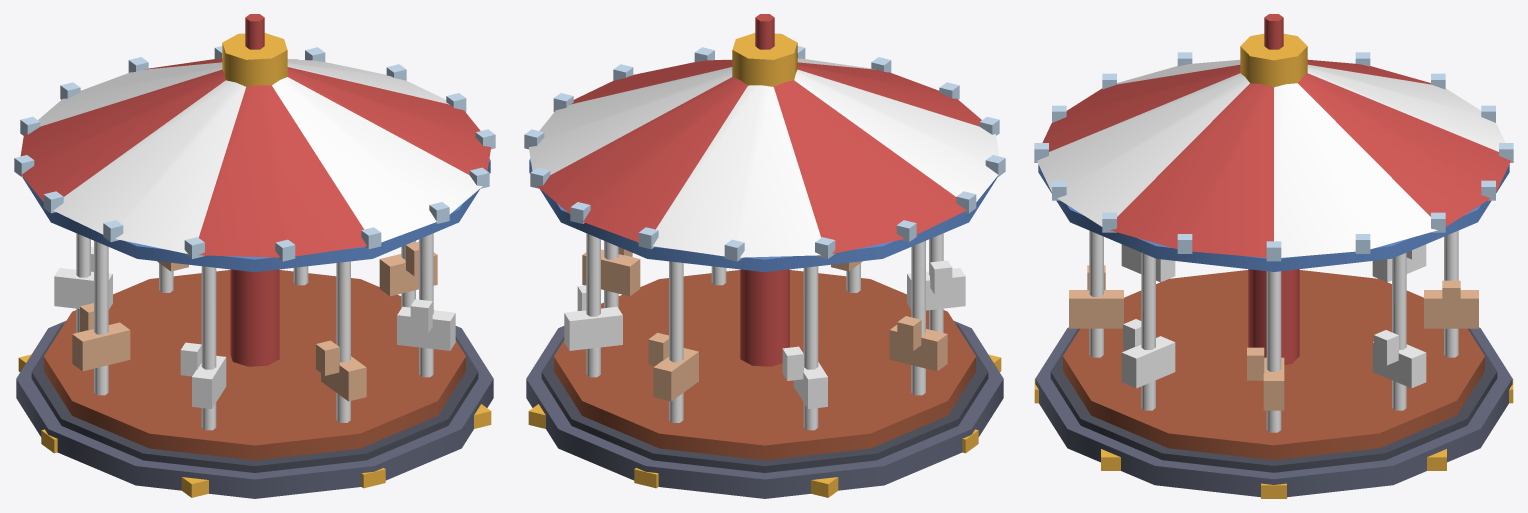
Rendered from manege-carrousel.glb.
3 renders of one model, left to right at view 1: azimuth 30°, elevation 25°; view 2: azimuth 150°, elevation 25°; view 3: azimuth 270°, elevation 25°, orthographic.
Parts seen in each view (by area): view 1: plateforme, toit-secteur-7, toit-secteur-6, socle, toit-secteur-0, toit-secteur-5, toit-secteur-1, socle-chant, bandeau, mat, toit-secteur-4, epi (+16 smaller); view 2: plateforme, toit-secteur-4, toit-secteur-5, socle, toit-secteur-3, toit-secteur-6, toit-secteur-2, socle-chant, bandeau, mat, toit-secteur-7, epi (+17 smaller); view 3: plateforme, toit-secteur-1, toit-secteur-2, socle, toit-secteur-0, toit-secteur-3, socle-chant, toit-secteur-4, toit-secteur-7, bandeau, mat, epi (+18 smaller).
Boxes of the visible parts, bbox=[...] form: plateforme: bbox=[44, 270, 465, 460]; toit-secteur-7: bbox=[198, 85, 366, 257]; toit-secteur-6: bbox=[53, 80, 245, 253]; socle: bbox=[16, 321, 493, 498]; toit-secteur-0: bbox=[272, 77, 482, 242]; toit-secteur-5: bbox=[20, 69, 225, 201]; toit-secteur-1: bbox=[287, 67, 491, 174]; socle-chant: bbox=[31, 323, 478, 472]; bandeau: bbox=[22, 158, 490, 272]; mat: bbox=[230, 269, 279, 366]; toit-secteur-4: bbox=[38, 62, 222, 126]; epi: bbox=[222, 33, 287, 86]; plateforme: bbox=[554, 270, 975, 460]; toit-secteur-4: bbox=[653, 85, 821, 257]; toit-secteur-5: bbox=[774, 80, 966, 253]; socle: bbox=[526, 321, 1003, 498]; toit-secteur-3: bbox=[537, 77, 747, 242]; toit-secteur-6: bbox=[794, 69, 999, 201]; toit-secteur-2: bbox=[528, 67, 732, 174]; socle-chant: bbox=[541, 323, 988, 472]; bandeau: bbox=[529, 158, 997, 272]; mat: bbox=[740, 269, 789, 366]; toit-secteur-7: bbox=[797, 62, 981, 126]; epi: bbox=[732, 33, 797, 86]; plateforme: bbox=[1063, 270, 1484, 460]; toit-secteur-1: bbox=[1110, 83, 1273, 257]; toit-secteur-2: bbox=[1274, 83, 1437, 257]; socle: bbox=[1035, 327, 1512, 497]; toit-secteur-0: bbox=[1037, 73, 1249, 226]; toit-secteur-3: bbox=[1298, 73, 1510, 226]; socle-chant: bbox=[1050, 328, 1497, 472]; toit-secteur-4: bbox=[1307, 65, 1505, 151]; toit-secteur-7: bbox=[1042, 65, 1240, 151]; bandeau: bbox=[1038, 164, 1509, 271]; mat: bbox=[1248, 269, 1299, 364]; epi: bbox=[1240, 33, 1307, 87].
Size of the model in its own units: 0.4 by 0.35 by 0.4.
